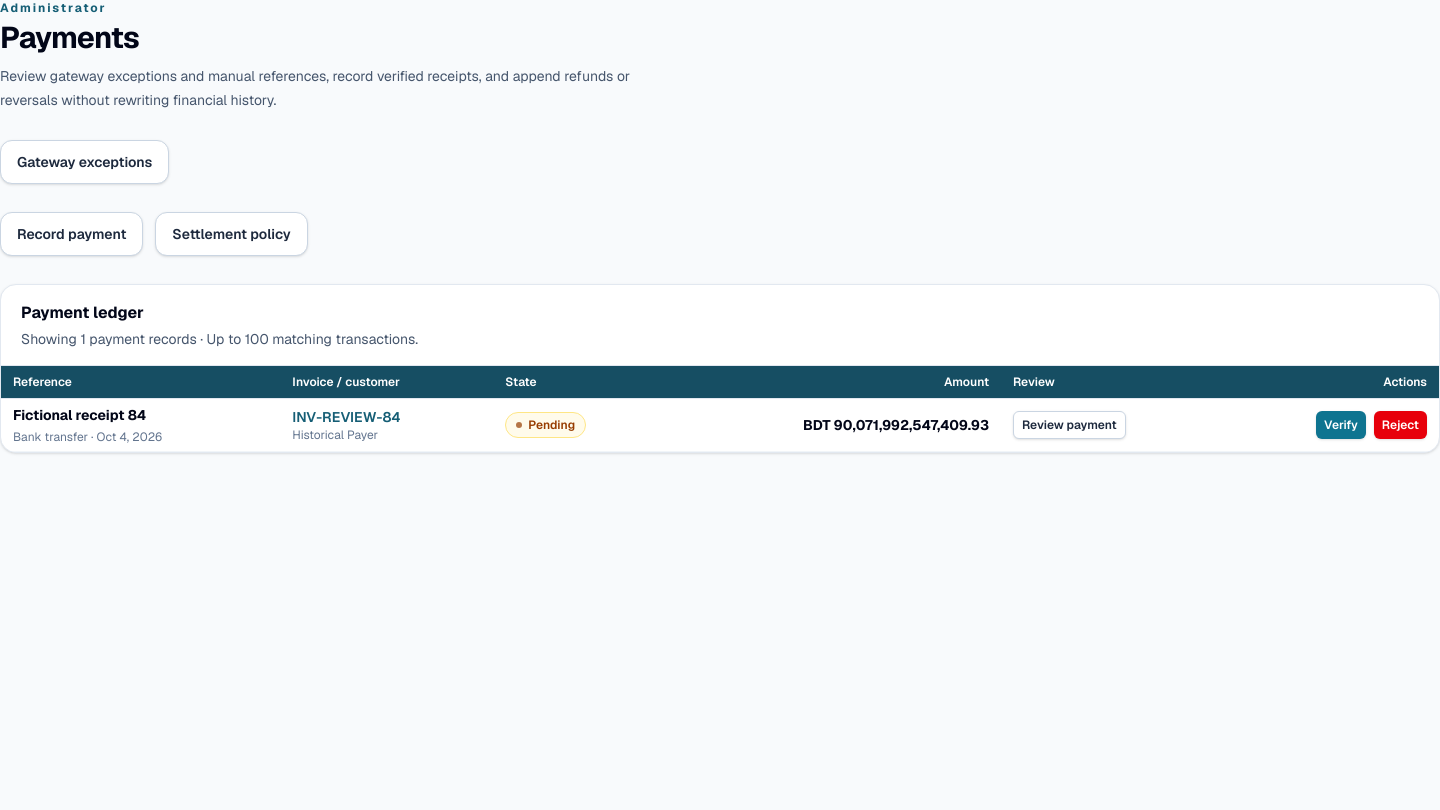
Test: payment workspace review boundaries and existing mutations › keeps a failed mutation retry separate from read-only review
Step 1. Click the button "Review payment" → (1069, 425), box left=1013, top=411, right=1126, bottom=439
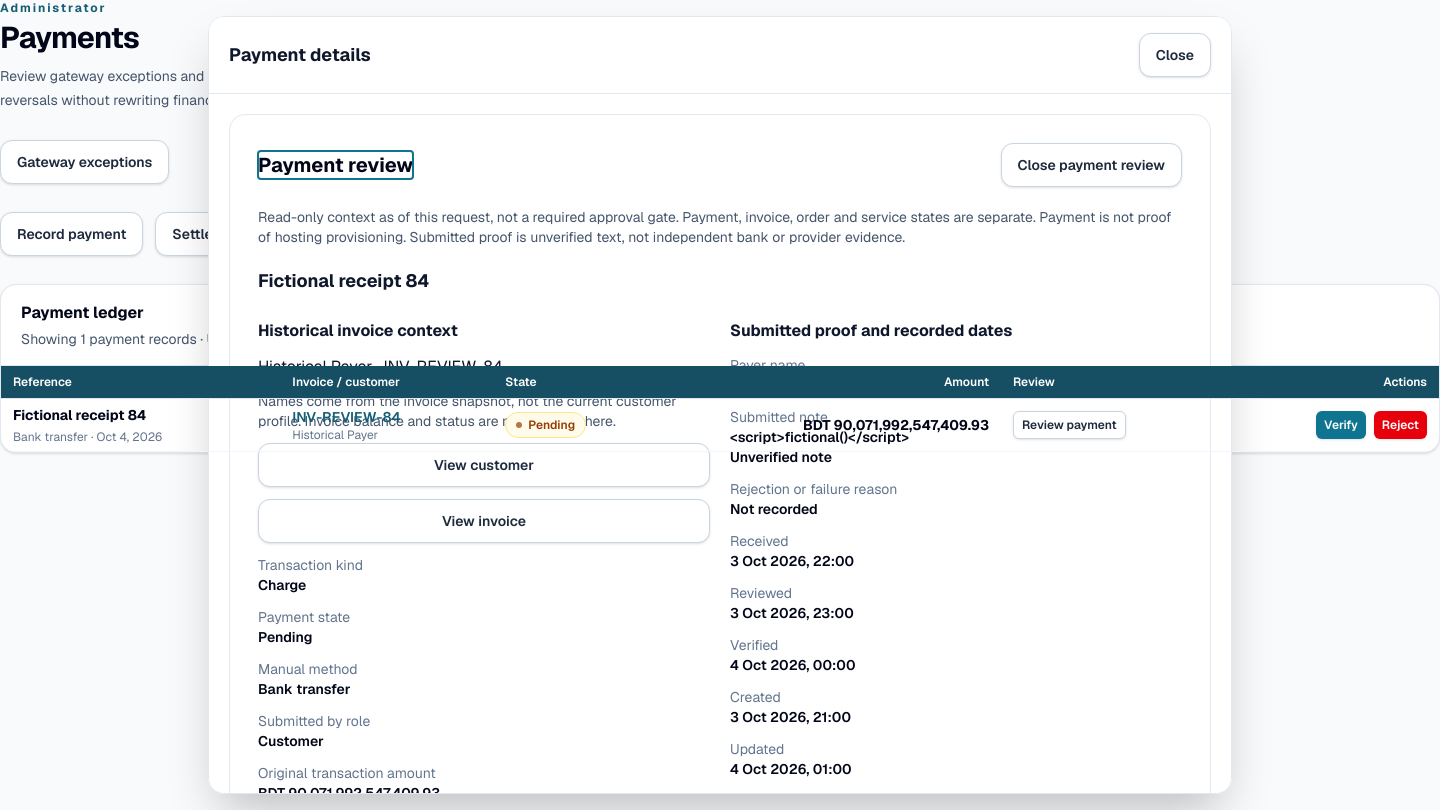
Result: the text "Payer name" is shown at left=730, top=356, right=806, bottom=374
Step 2. Click the button "Verify" → (1341, 425), box left=1316, top=411, right=1366, bottom=439
(page scrolled)
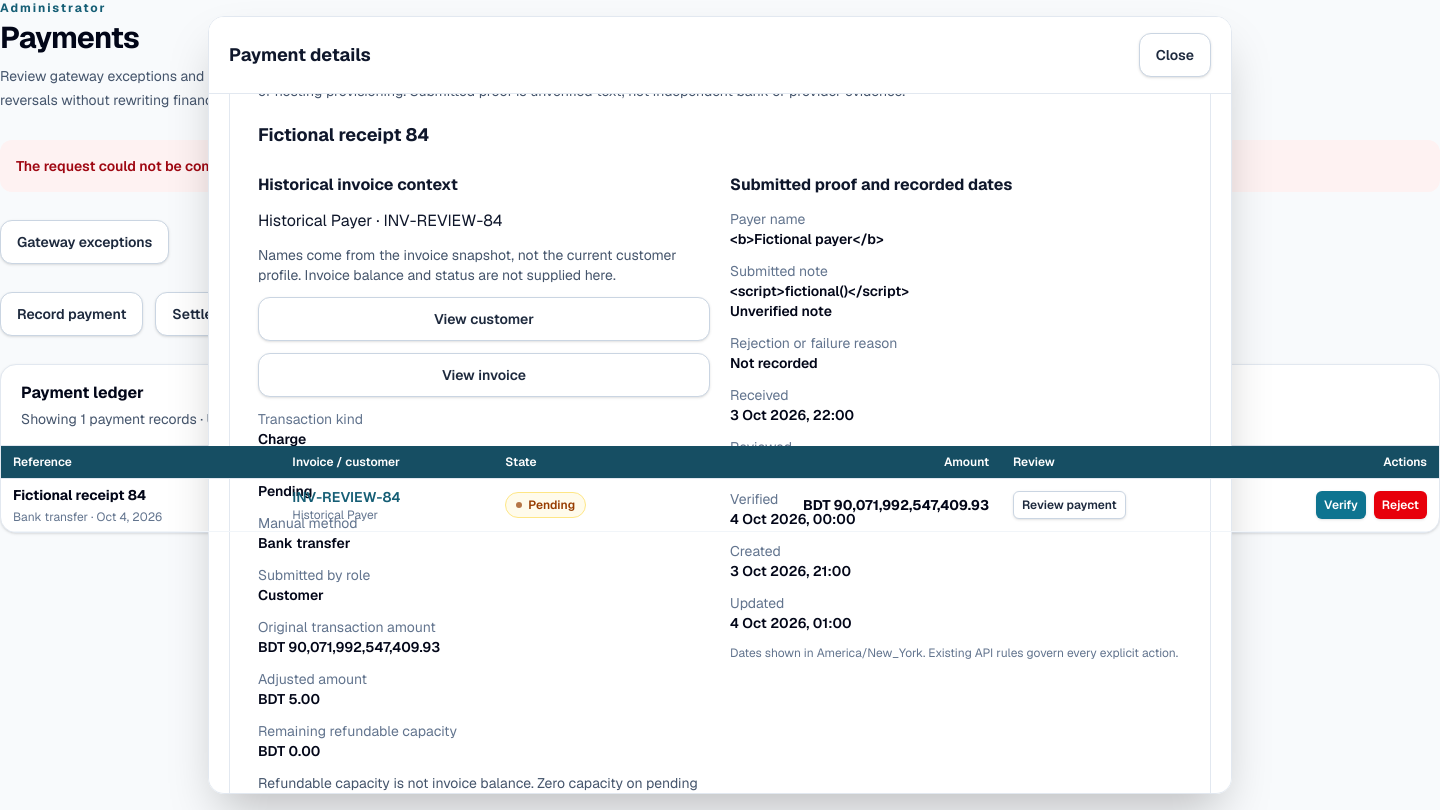
Result: the element "Payment review" is shown
Result: the message "The request could not be completed." is shown at left=0, top=140, right=1439, bottom=192
